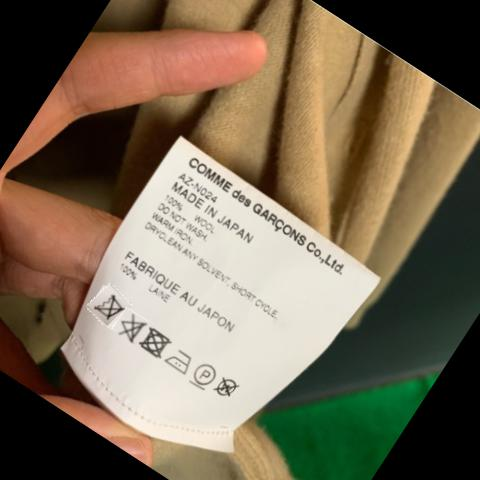DN_bleach: (119, 312, 146, 343)
DN_tumble_dry: (142, 330, 173, 358)
DN_wash: (95, 290, 124, 323)
DN_wet_clean: (215, 375, 241, 399)
dry_clean_any_solvent_except_trichloroethylene: (192, 360, 219, 391)
iron_medium: (163, 347, 195, 377)
